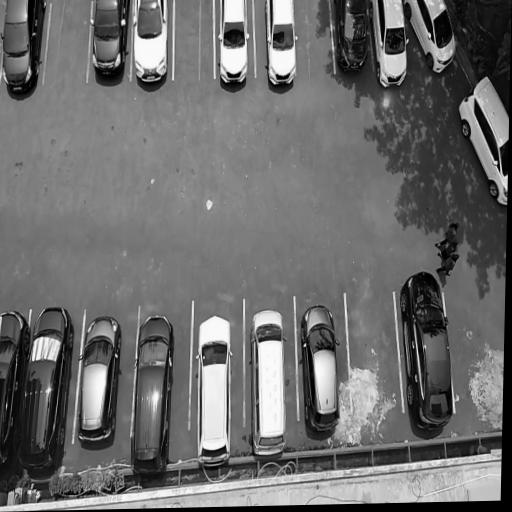Car: (396, 266, 457, 436), (16, 299, 72, 479), (125, 309, 178, 487), (72, 306, 125, 448), (456, 73, 510, 209), (296, 297, 344, 444), (248, 301, 292, 458), (191, 313, 234, 472), (0, 301, 27, 480), (0, 0, 47, 100), (128, 0, 173, 97), (407, 0, 461, 78), (367, 0, 409, 98), (334, 0, 371, 96), (264, 0, 299, 101), (89, 0, 129, 85), (217, 0, 251, 92)
Space Available: (351, 281, 394, 435), (50, 1, 90, 85), (175, 0, 213, 88), (298, 0, 330, 83)
